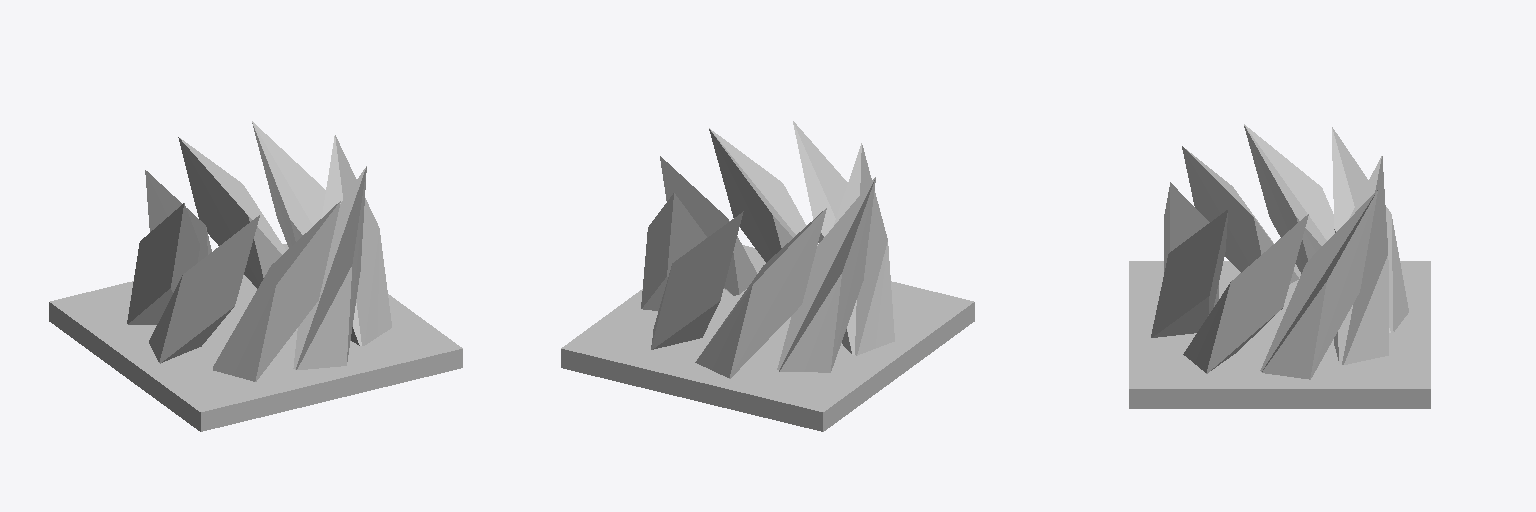
The model's file is diamond_cutting_head.obj.
The picture shows the model from 3 angles: view 1: azimuth 30°, elevation 25°; view 2: azimuth 150°, elevation 25°; view 3: azimuth 270°, elevation 25°; orthographic projection.
Size of the model in its own units: 0.875 by 0.5652 by 0.875.